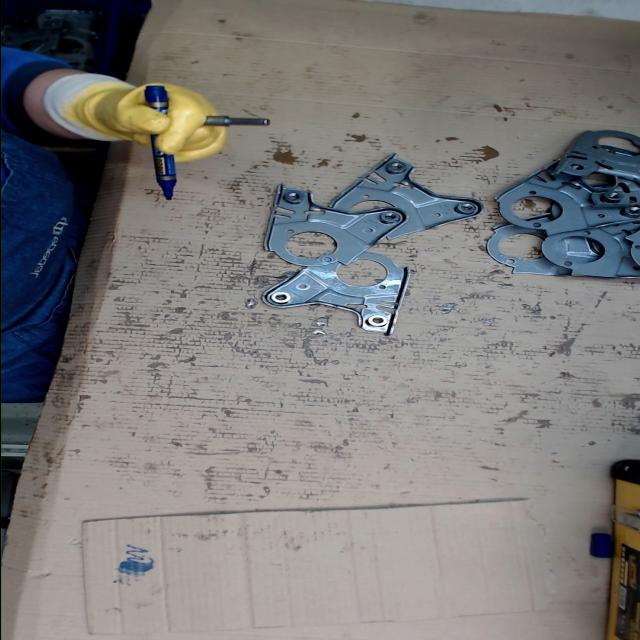hands: (68, 81, 230, 165)
